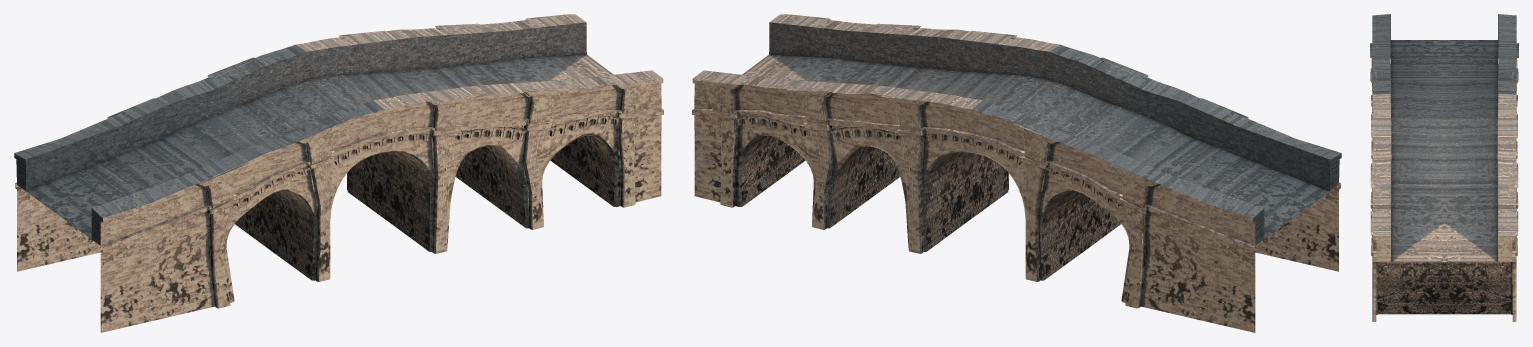
The model's file is ponte.fbx.
3 renders of one model, left to right at view 1: azimuth 30°, elevation 25°; view 2: azimuth 150°, elevation 25°; view 3: azimuth 270°, elevation 25°, orthographic. The views are drawn at different scales.
Parts seen in each view (by area): view 1: pontetobake, pontetobake.001; view 2: pontetobake, pontetobake.001; view 3: pontetobake, pontetobake.001.
Boxes of the visible parts, bbox=[...] form: pontetobake: bbox=[15, 54, 663, 332]; pontetobake.001: bbox=[14, 14, 663, 245]; pontetobake: bbox=[692, 54, 1340, 332]; pontetobake.001: bbox=[692, 14, 1341, 245]; pontetobake: bbox=[1370, 40, 1518, 321]; pontetobake.001: bbox=[1370, 14, 1518, 262].
Bounding box in the file's own units: 2568 × 698 × 726.
